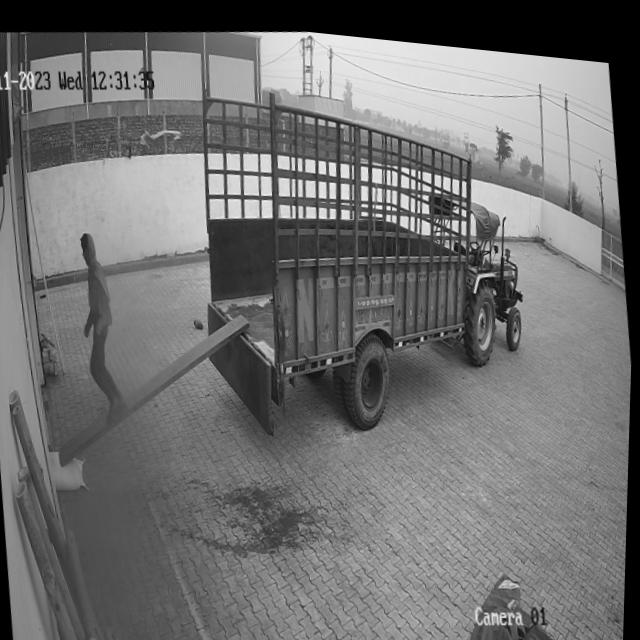sack: (50, 446, 88, 492)
